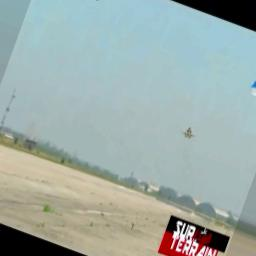Airplane: (181, 125, 199, 142)
